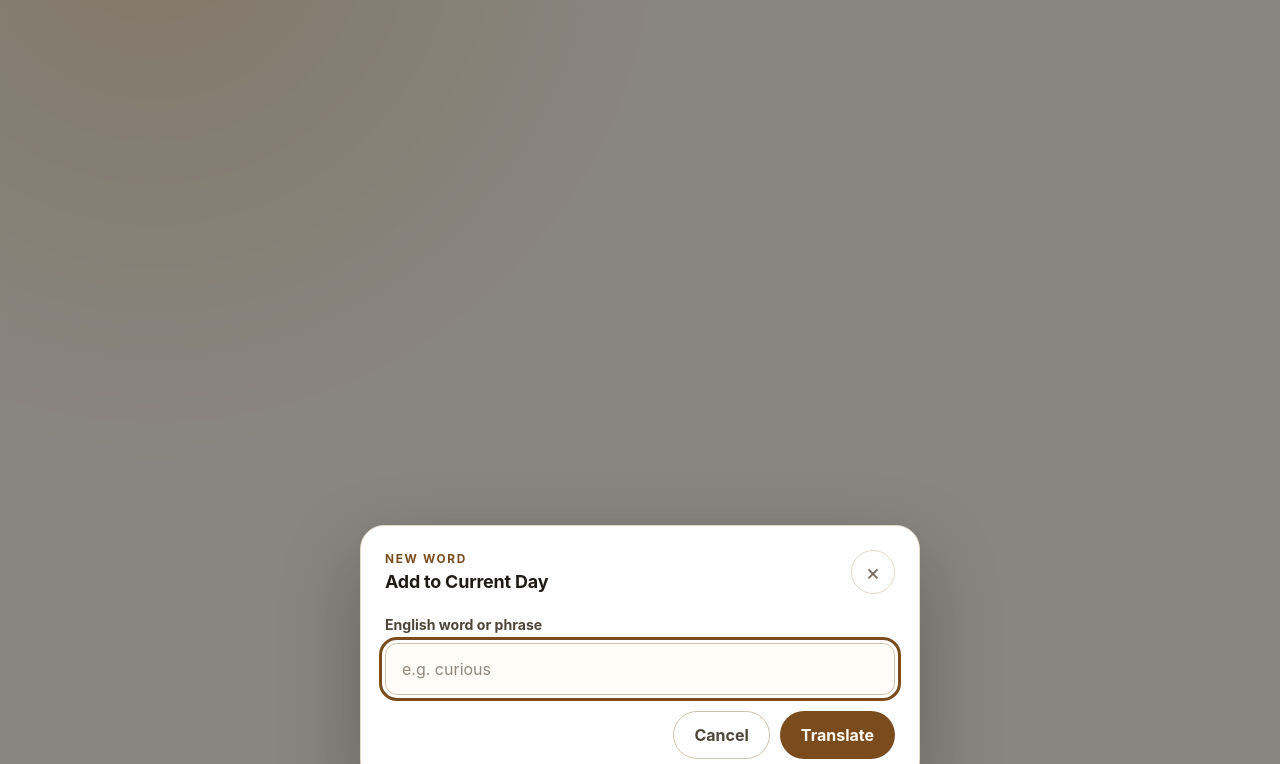
AddCardDialog › allows manual selection to save without examples and caps at three
Later steps or results of the test are not shown.
Type "curious" into the field labelled "English word or phrase" at (640, 669), box [385,643,895,695]
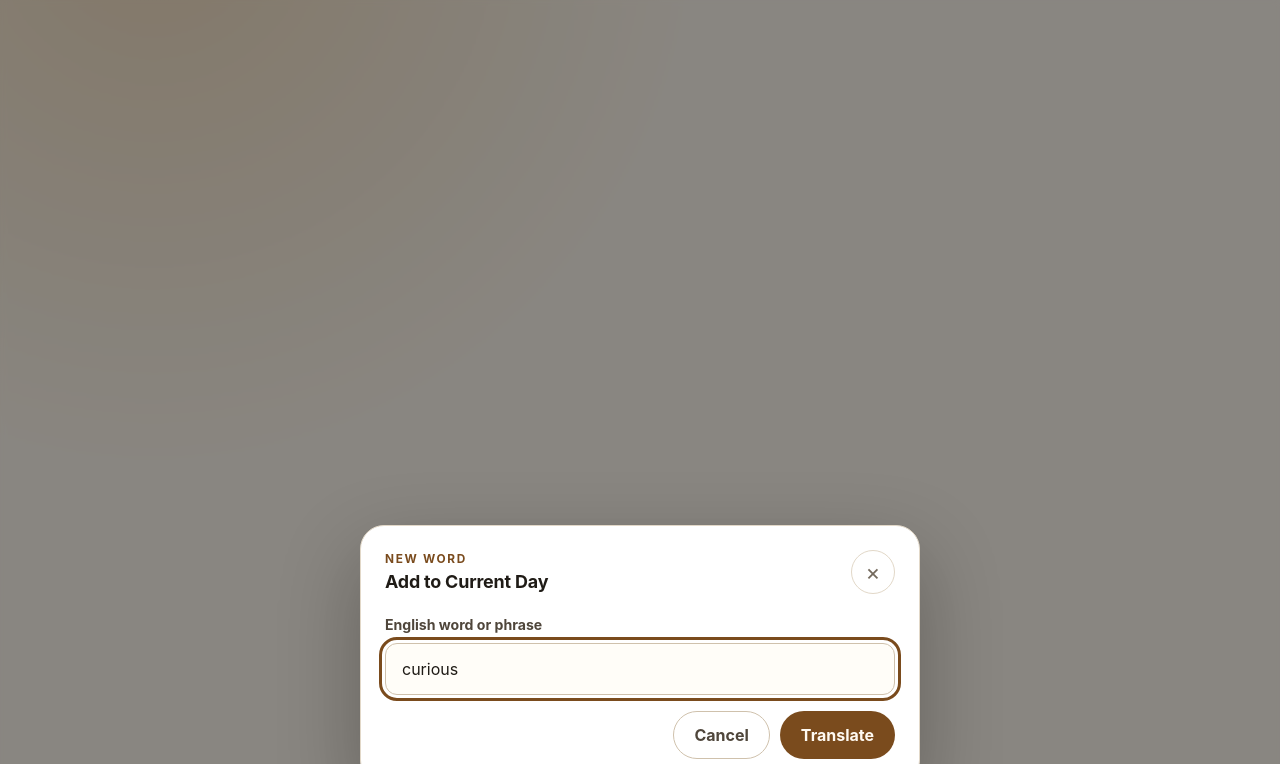
Click the button "Translate" at (837, 735), box [780,711,895,759]
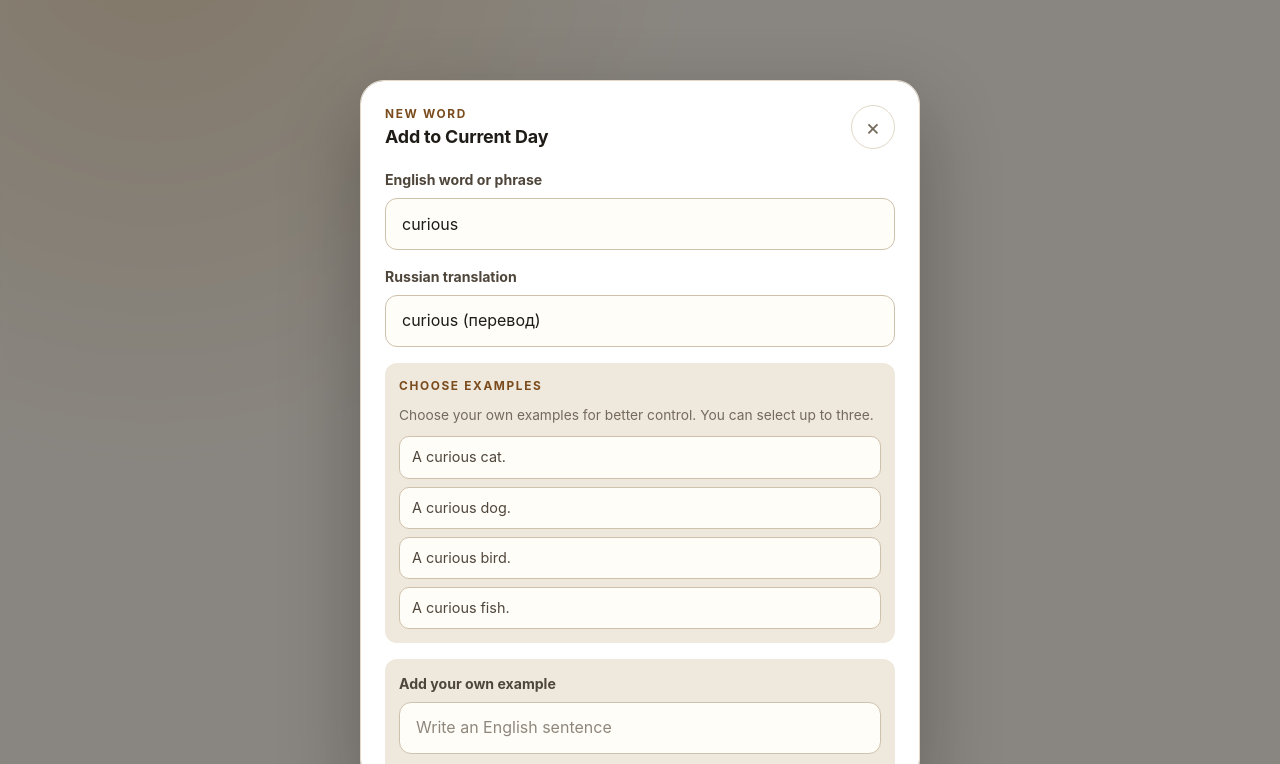
Expected: the text "Choose your own examples for better control" is shown, [399,407,874,423]
Click the button "A curious cat." at (459, 457), box [399,436,881,479]
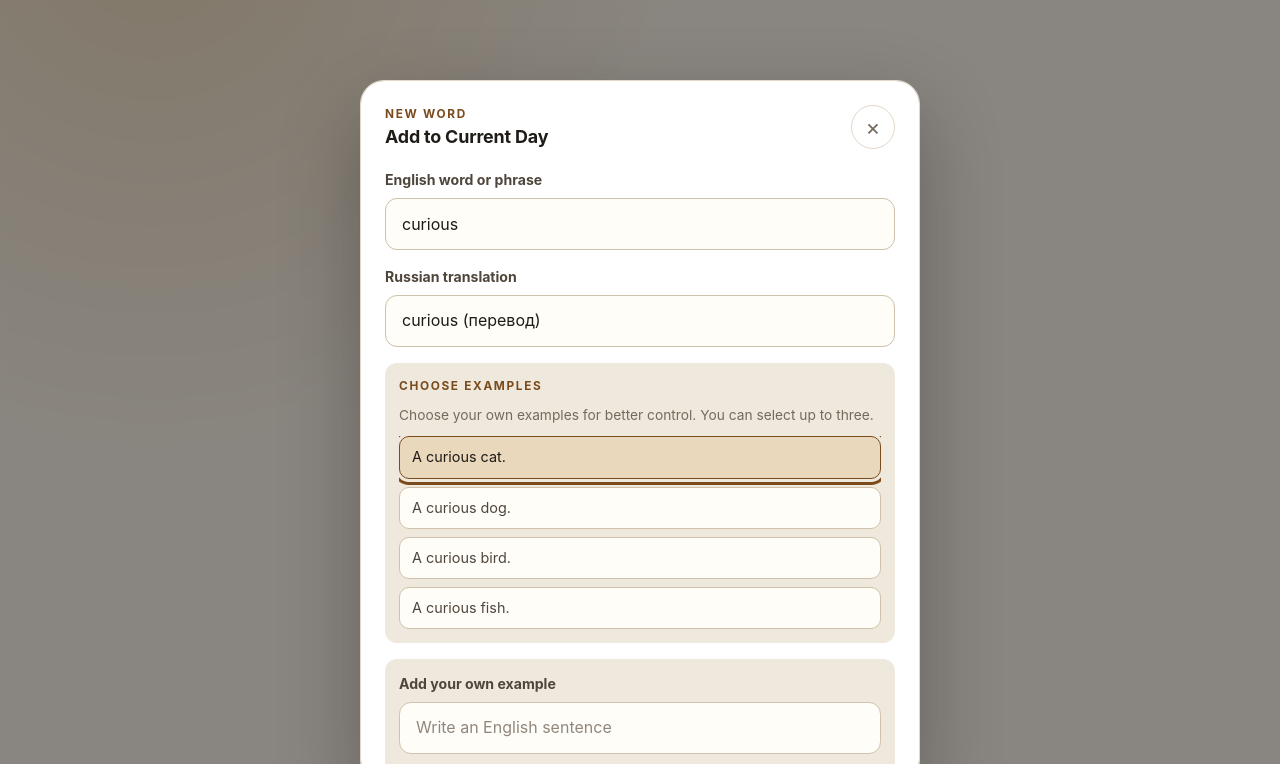
Click the button "A curious dog." at (461, 507), box [399,487,881,529]
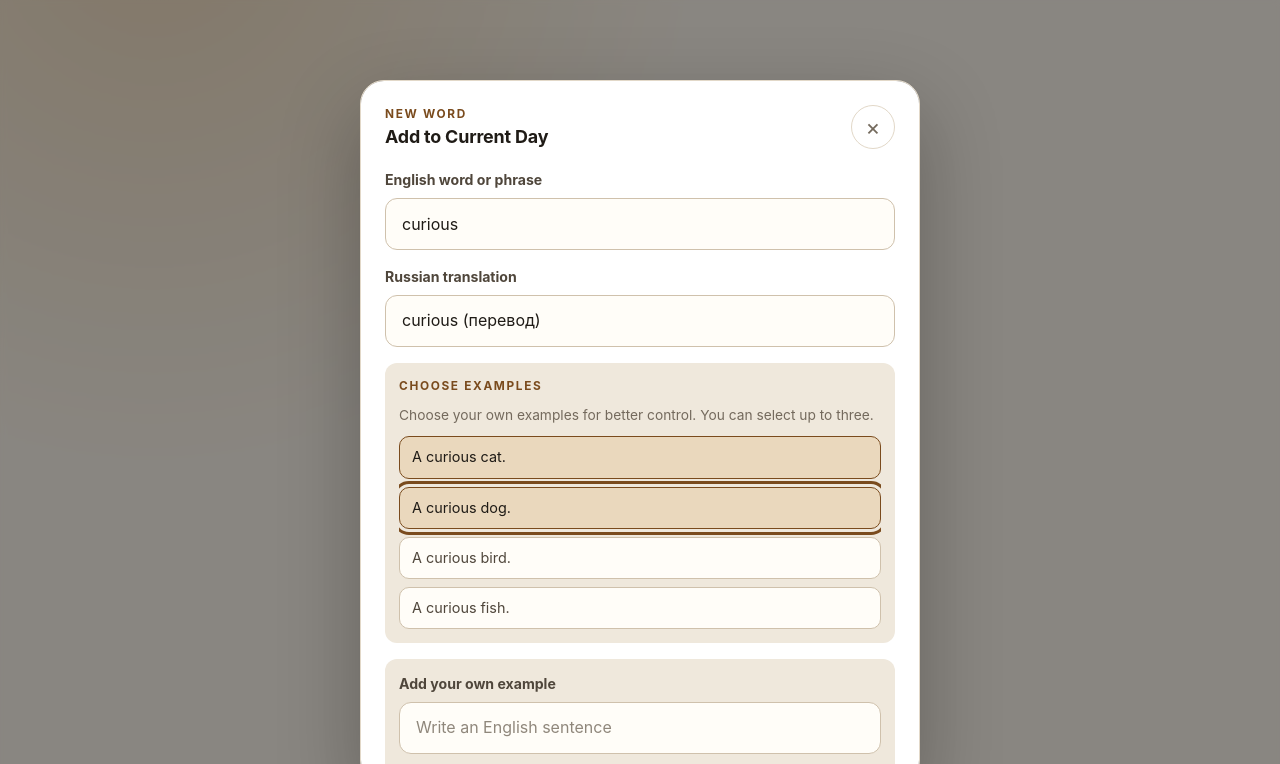
Click the button "A curious bird." at (461, 557), box [399,537,881,579]
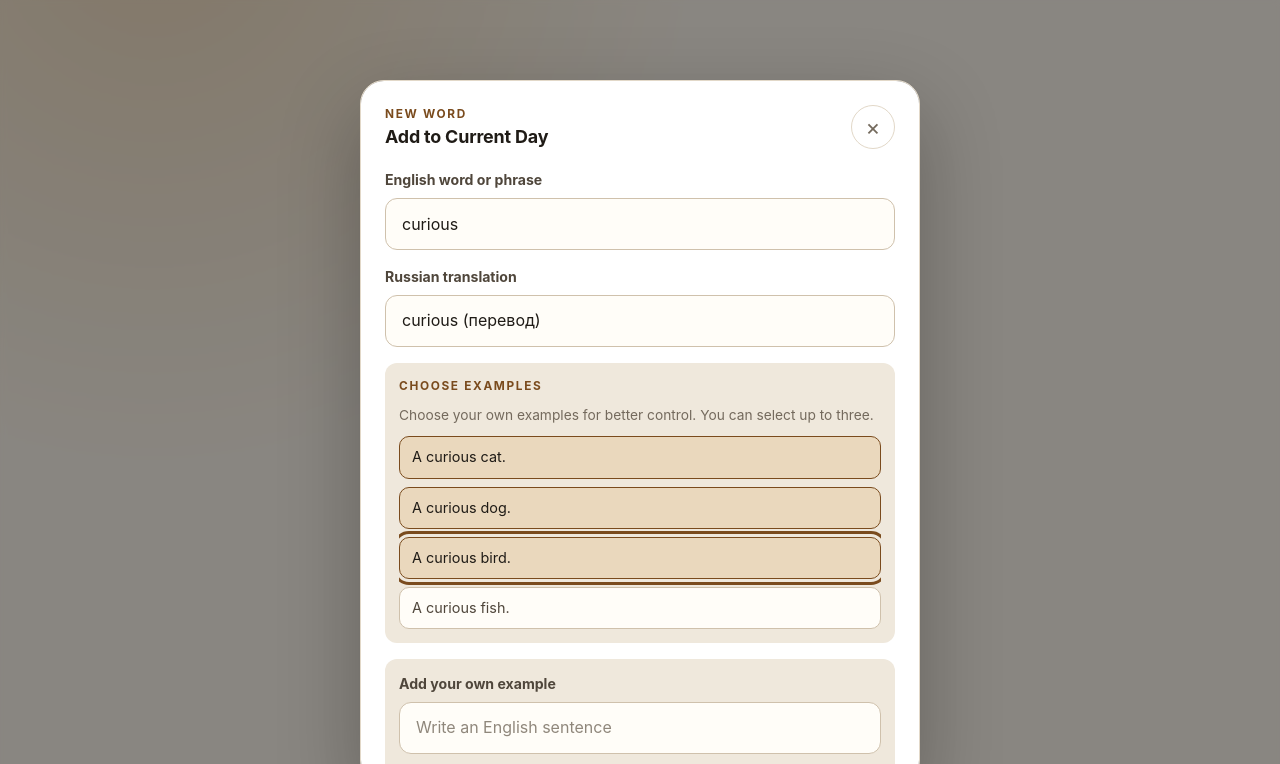
Click the button "A curious fish." at (461, 607), box [399,587,881,629]
(page scrolled)
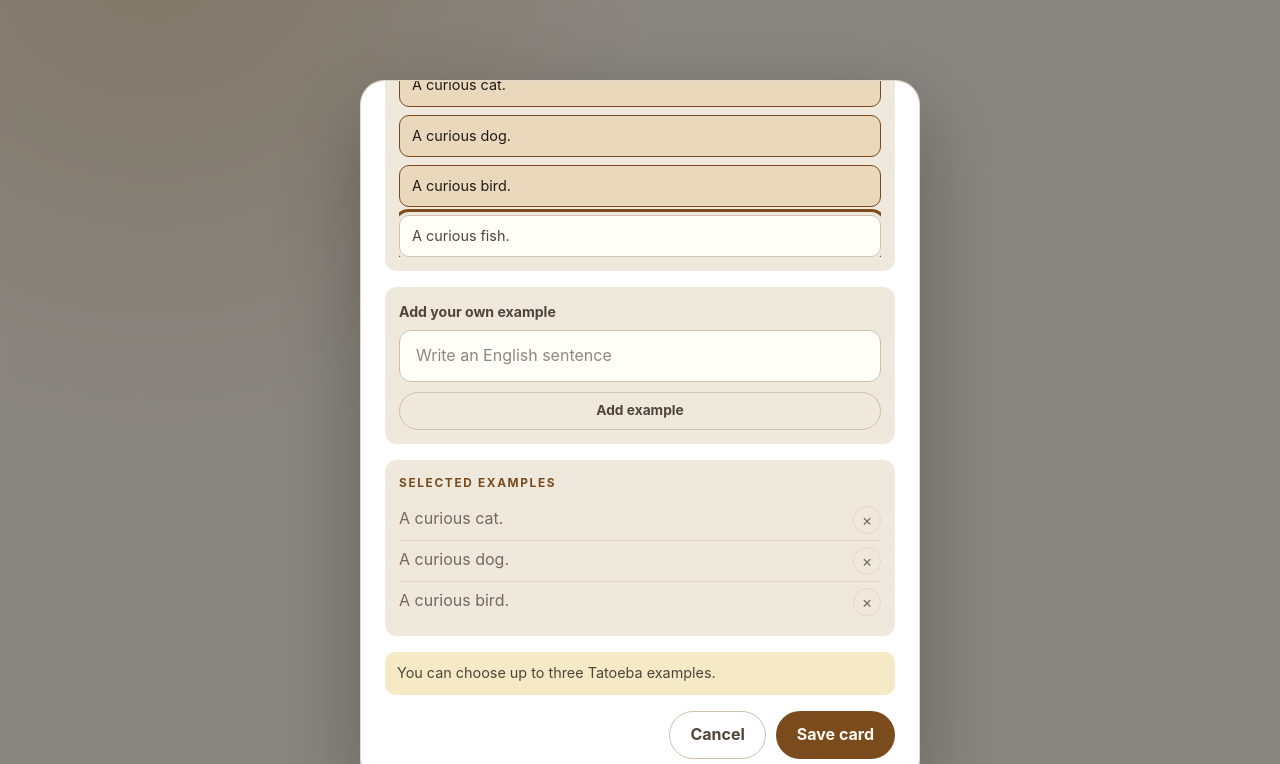
Expected: the message shows "up to three", [397,664,716,681]
